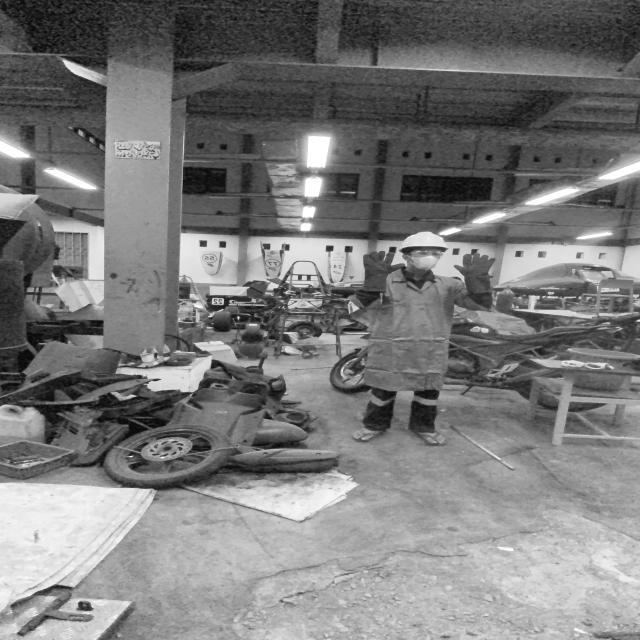face_mask: (407, 248, 448, 270)
glasses: (407, 248, 447, 258)
hand_glove: (357, 250, 411, 279), (449, 251, 500, 281)
head_helmet: (399, 231, 452, 251)
person: (344, 228, 500, 448)
